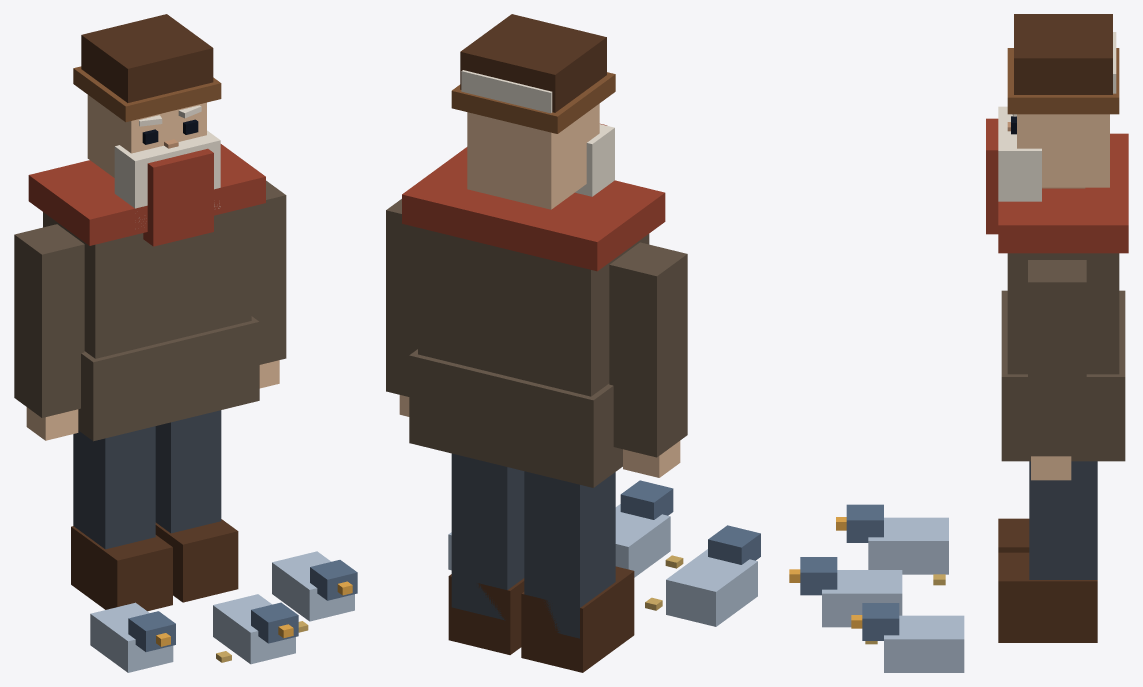
File: npc_kolya.glb
The picture shows the model from 3 angles, left to right: view 1: azimuth 30°, elevation 25°; view 2: azimuth 150°, elevation 25°; view 3: azimuth 270°, elevation 25°; orthographic projection. The views are drawn at different scales.
Parts seen in each view (by area): view 1: npc_kolya; view 2: npc_kolya; view 3: npc_kolya.
Part boxes in pixels (x1,y1,x2,y2): npc_kolya: (14, 14, 357, 672); npc_kolya: (386, 14, 760, 672); npc_kolya: (789, 14, 1128, 672).
Size of the model in its own units: 0.975 by 2.05 by 1.09.
1 material, 1 textured.
